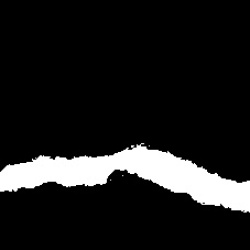crack: (3, 142, 247, 213)
